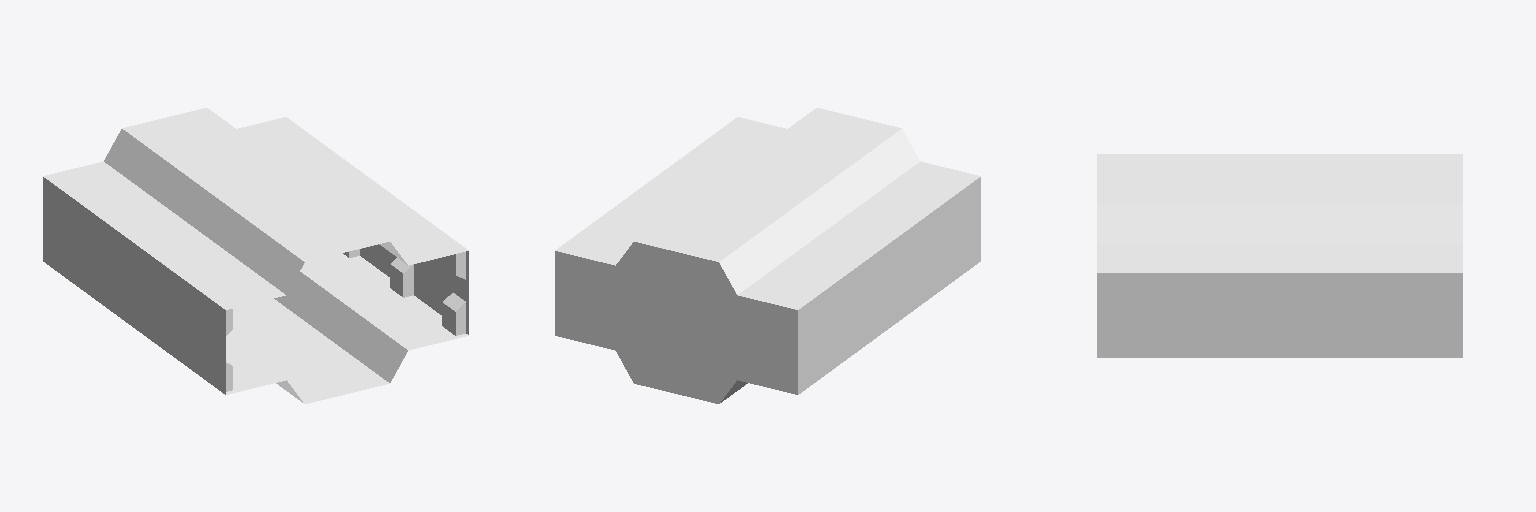
Rendered from oolite_rock_hermit_dock.obj.
The picture shows the model from 3 angles: view 1: azimuth 30°, elevation 25°; view 2: azimuth 150°, elevation 25°; view 3: azimuth 270°, elevation 25°; orthographic projection.
Parts seen in each view (by area): view 1: oolite_rock_hermit_dock.obj; view 2: oolite_rock_hermit_dock.obj; view 3: oolite_rock_hermit_dock.obj.
Boxes of the visible parts, x1=… form: oolite_rock_hermit_dock.obj: x1=43, y1=108, x2=468, y2=403; oolite_rock_hermit_dock.obj: x1=555, y1=108, x2=980, y2=403; oolite_rock_hermit_dock.obj: x1=1097, y1=154, x2=1462, y2=357.
Size of the model in its own units: 195 by 109 by 254.